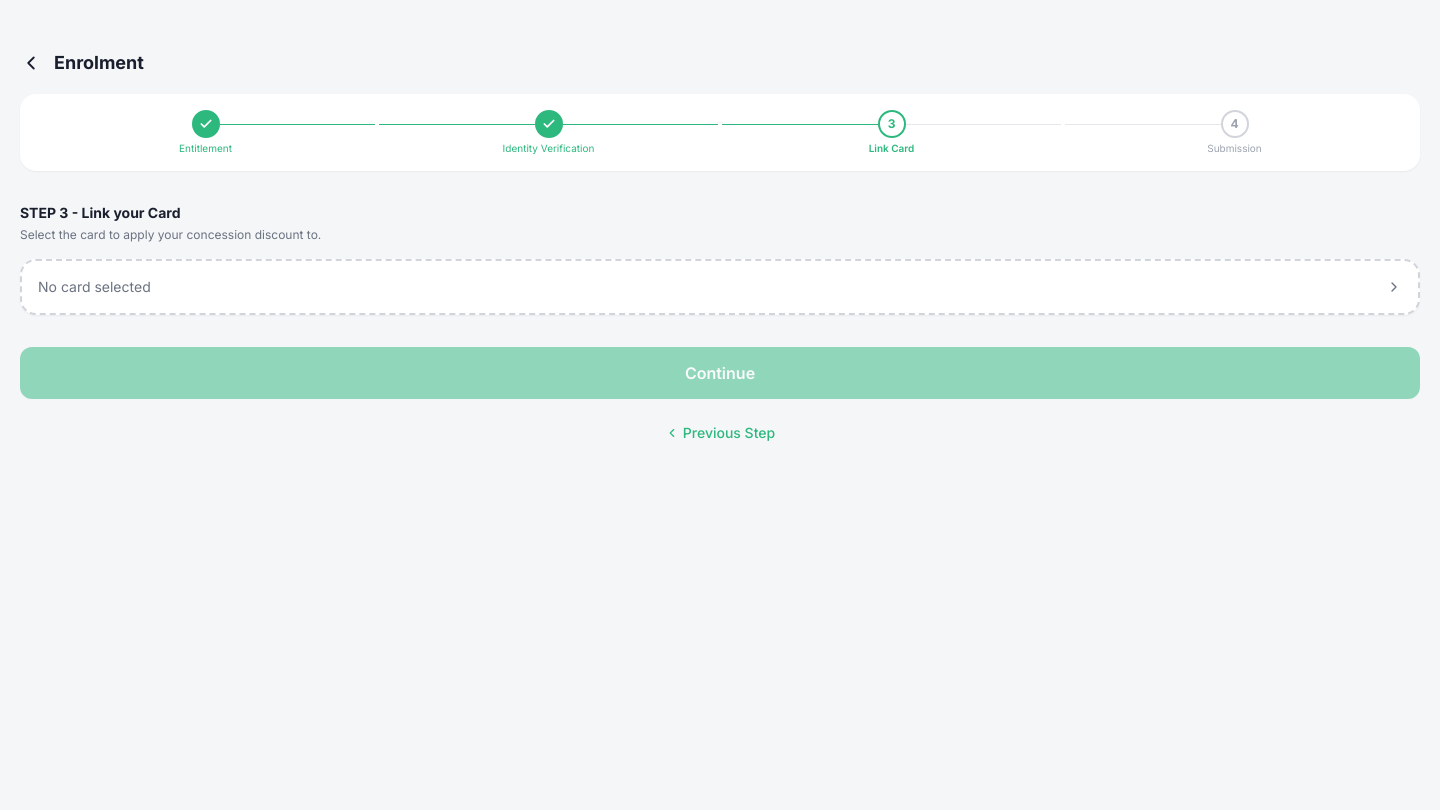
EnrolmentStep3Page › after card selected modal closes and card name shown
Click the button with aria-label "select card".
click(94, 286)  # box left=20, top=258, right=1420, bottom=314
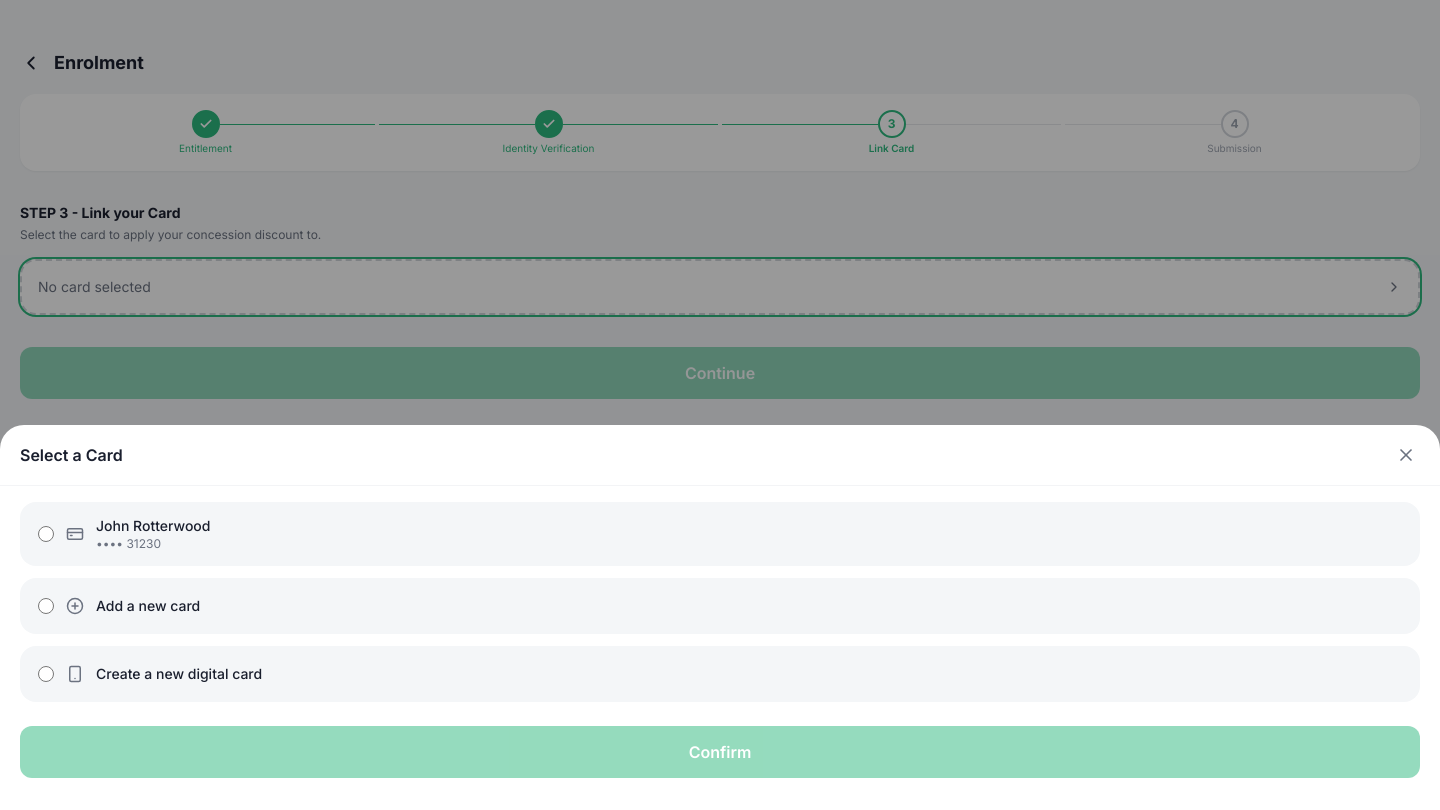
Click the radio button with aria-label "ending".
click(46, 534)  # box left=38, top=526, right=54, bottom=542
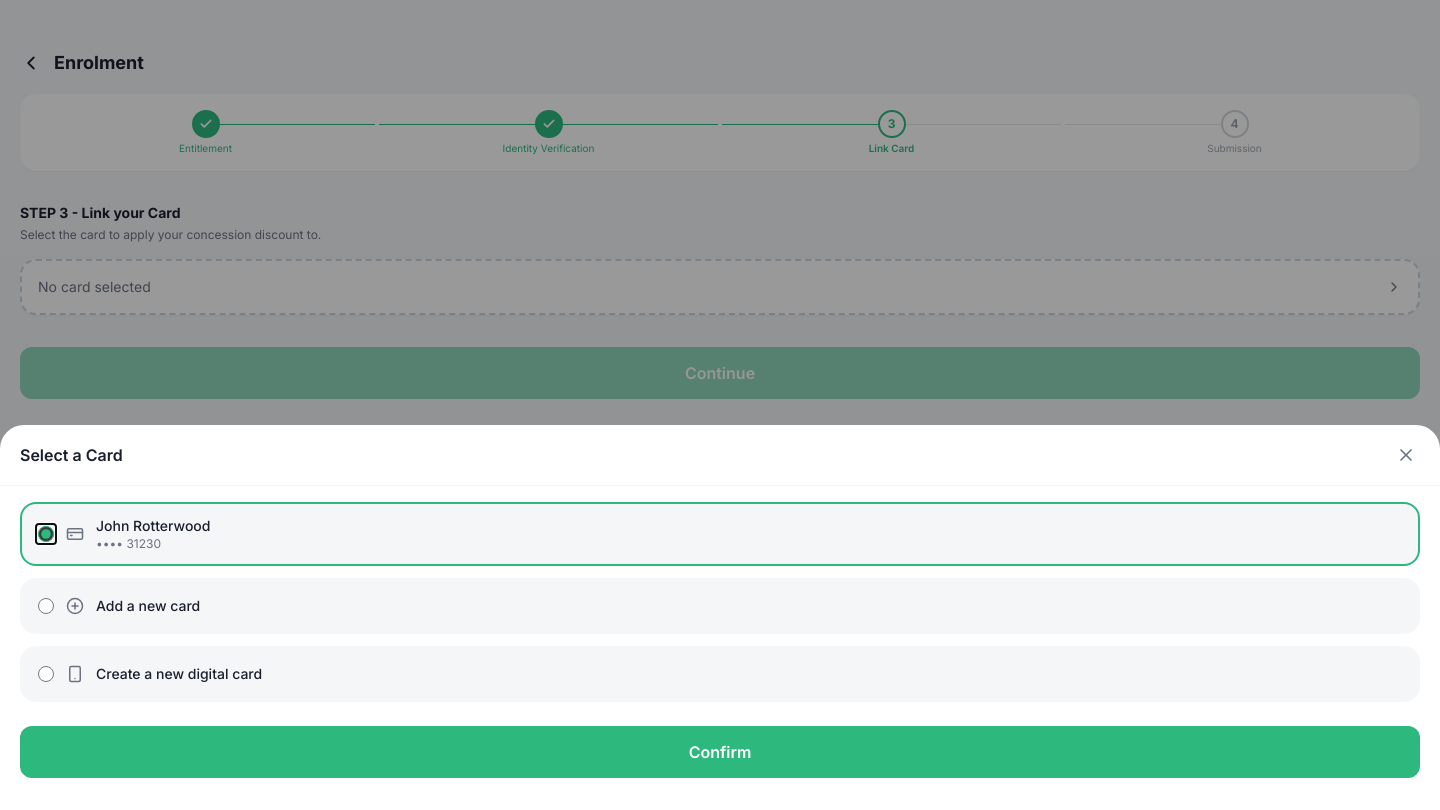
Click the button "Confirm".
click(720, 752)  # box left=20, top=726, right=1420, bottom=778
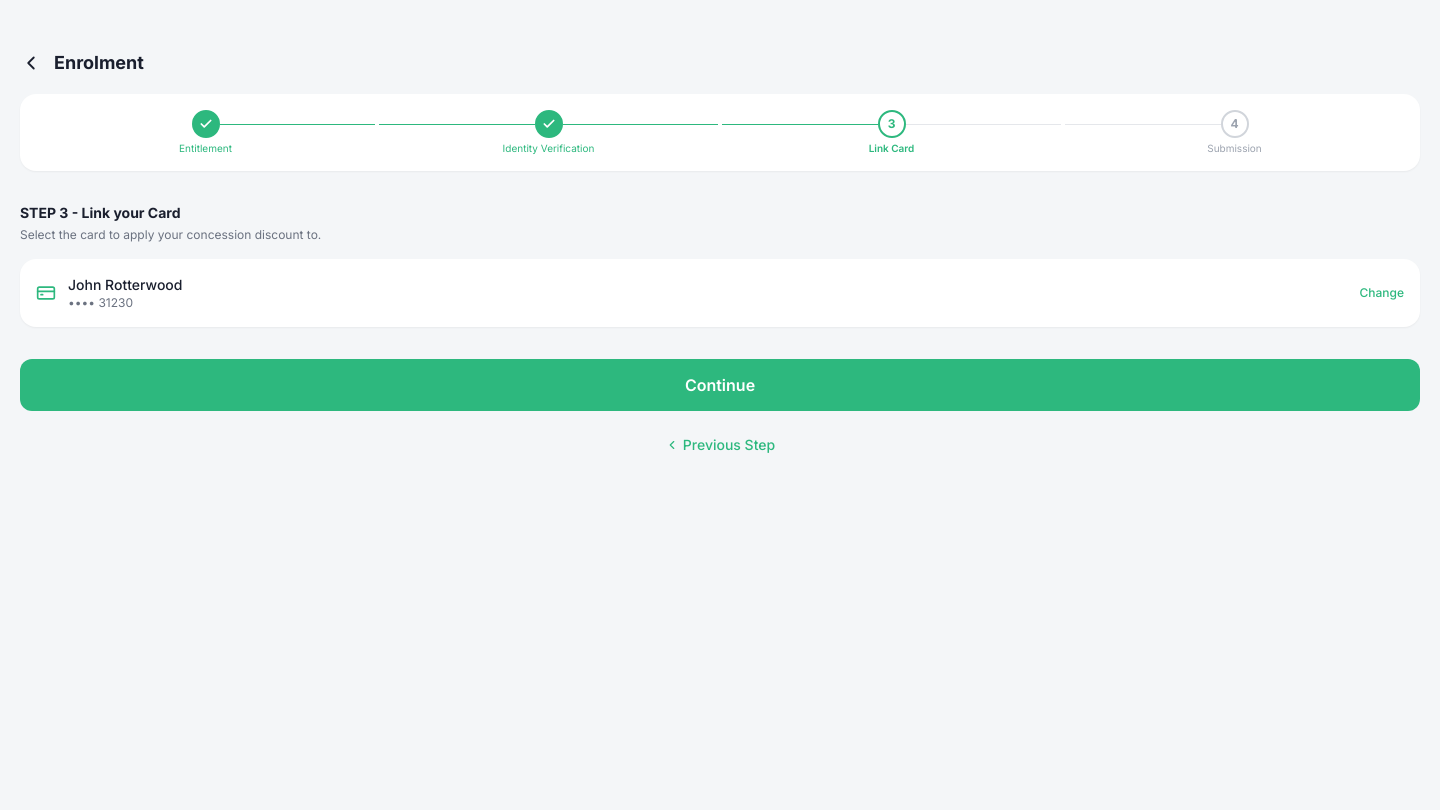
Now the text "John Rotterwood" is shown, box left=68, top=274, right=182, bottom=294
Now the heading "Select a Card" is gone
